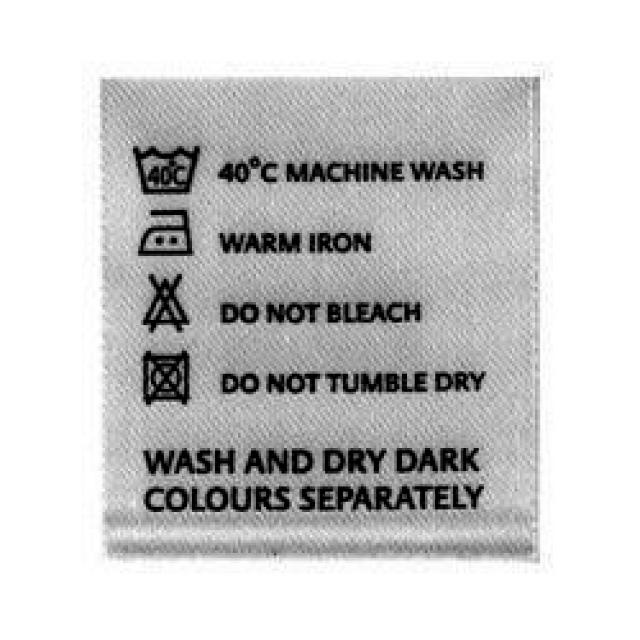40C: (125, 136, 206, 203)
DN_bleach: (139, 272, 198, 332)
DN_tumble_dry: (139, 347, 198, 412)
iron_medium: (134, 203, 200, 264)
